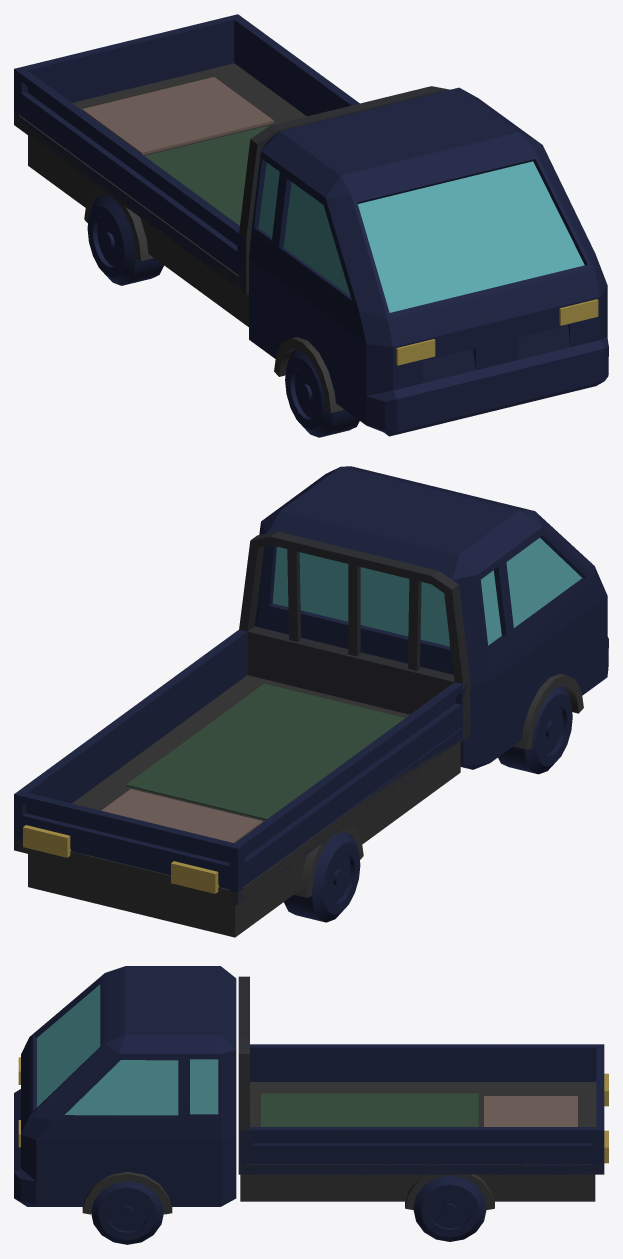
The model's file is obj_truck.fbx.
The picture shows the model from 3 angles, top to bottom: view 1: azimuth 30°, elevation 25°; view 2: azimuth 150°, elevation 25°; view 3: azimuth 270°, elevation 25°; orthographic projection. The views are drawn at different scales.
Parts seen in each view (by area): view 1: fbx_Truck; view 2: fbx_Truck; view 3: fbx_Truck.
Boxes of the visible parts, x1=… form: fbx_Truck: x1=14, y1=14, x2=608, y2=437; fbx_Truck: x1=14, y1=466, x2=608, y2=937; fbx_Truck: x1=14, y1=966, x2=608, y2=1244.
Bounding box in the file's own units: 3.35 × 3.2 × 8.67.
